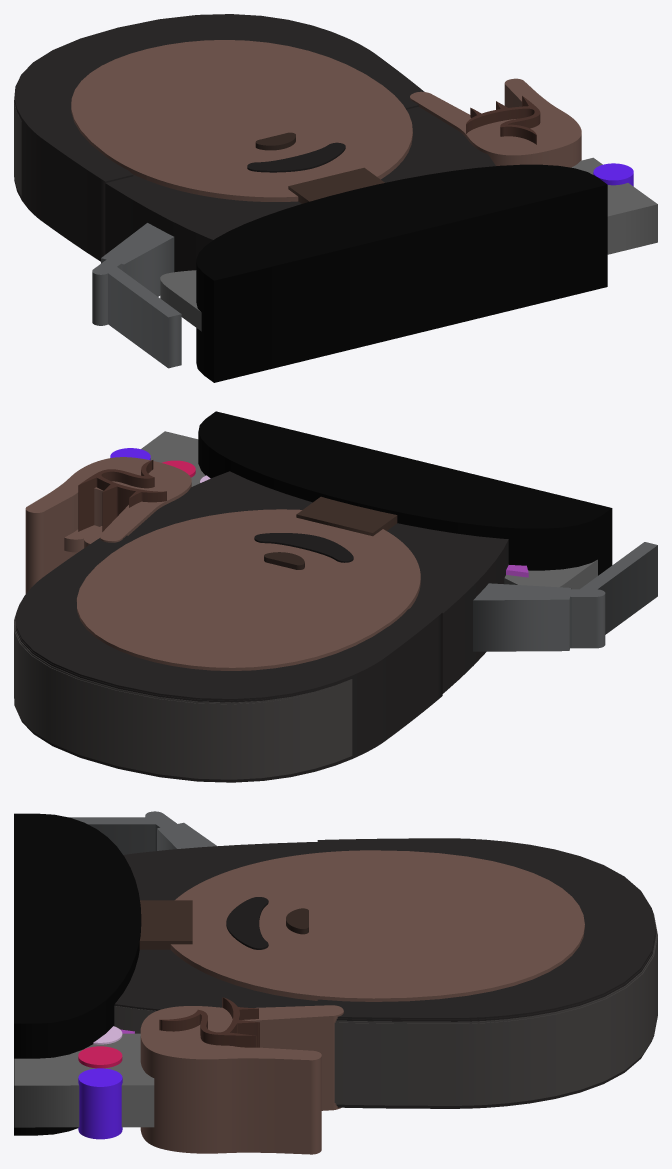
File: emoji_u1f469_1f3ff_200d_1f3a4.glb
The picture shows the model from 3 angles, top to bottom: view 1: azimuth 30°, elevation 25°; view 2: azimuth 150°, elevation 25°; view 3: azimuth 270°, elevation 25°; orthographic projection. The views are drawn at different scales.
Parts seen in each view (by area): view 1: emoji_u1f469_1f3ff_200d_1f3a4; view 2: emoji_u1f469_1f3ff_200d_1f3a4; view 3: emoji_u1f469_1f3ff_200d_1f3a4.
Boxes of the visible parts, x1,y1,x2,y2 form: emoji_u1f469_1f3ff_200d_1f3a4: [14, 14, 657, 382]; emoji_u1f469_1f3ff_200d_1f3a4: [14, 411, 657, 782]; emoji_u1f469_1f3ff_200d_1f3a4: [14, 811, 657, 1154].
Size of the model in its own units: 0.0336 by 0.0066 by 0.0334.
